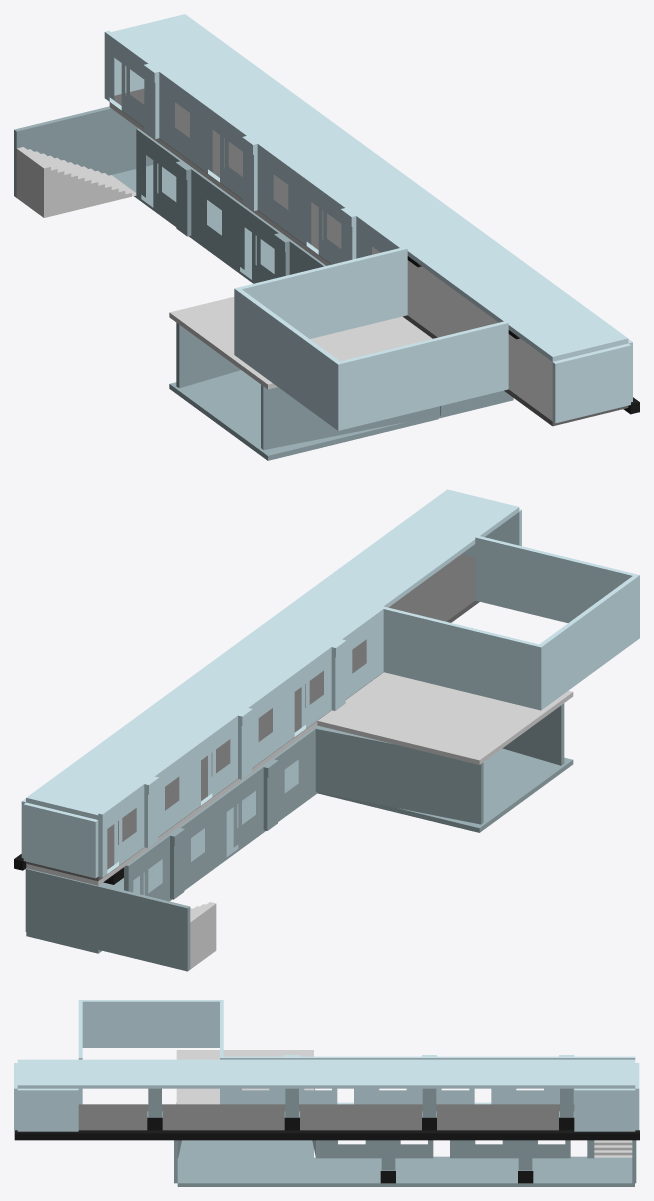
Rendered from exit_2d.fbx.
The picture shows the model from 3 angles, top to bottom: view 1: azimuth 30°, elevation 25°; view 2: azimuth 150°, elevation 25°; view 3: azimuth 270°, elevation 25°; orthographic projection. The views are drawn at different scales.
Visible parts, largest first — view 1: inanimate, inanimate.001, floor.001, Cube.003; view 2: inanimate, inanimate.001, floor.001, Cube.003; view 3: inanimate, inanimate.001, Cube, floor.001, Cube.003, pillar_good, pillar_good.001.
Part boxes in pixels (x1=…): inanimate: x1=104, y1=14, x2=632, y2=430; inanimate.001: x1=14, y1=106, x2=513, y2=460; floor.001: x1=109, y1=102, x2=432, y2=389; Cube.003: x1=16, y1=147, x2=136, y2=217; inanimate: x1=21, y1=489, x2=639, y2=880; inanimate.001: x1=25, y1=703, x2=573, y2=971; floor.001: x1=26, y1=672, x2=573, y2=885; Cube.003: x1=190, y1=902, x2=216, y2=969; inanimate: x1=14, y1=1000, x2=639, y2=1131; inanimate.001: x1=174, y1=1088, x2=636, y2=1186; Cube: x1=14, y1=1130, x2=639, y2=1140; floor.001: x1=176, y1=1050, x2=313, y2=1104; Cube.003: x1=594, y1=1140, x2=632, y2=1157; pillar_good: x1=380, y1=1140, x2=395, y2=1183; pillar_good.001: x1=518, y1=1140, x2=533, y2=1183.
Bounding box in the file's own units: 1350 × 745 × 4105.
